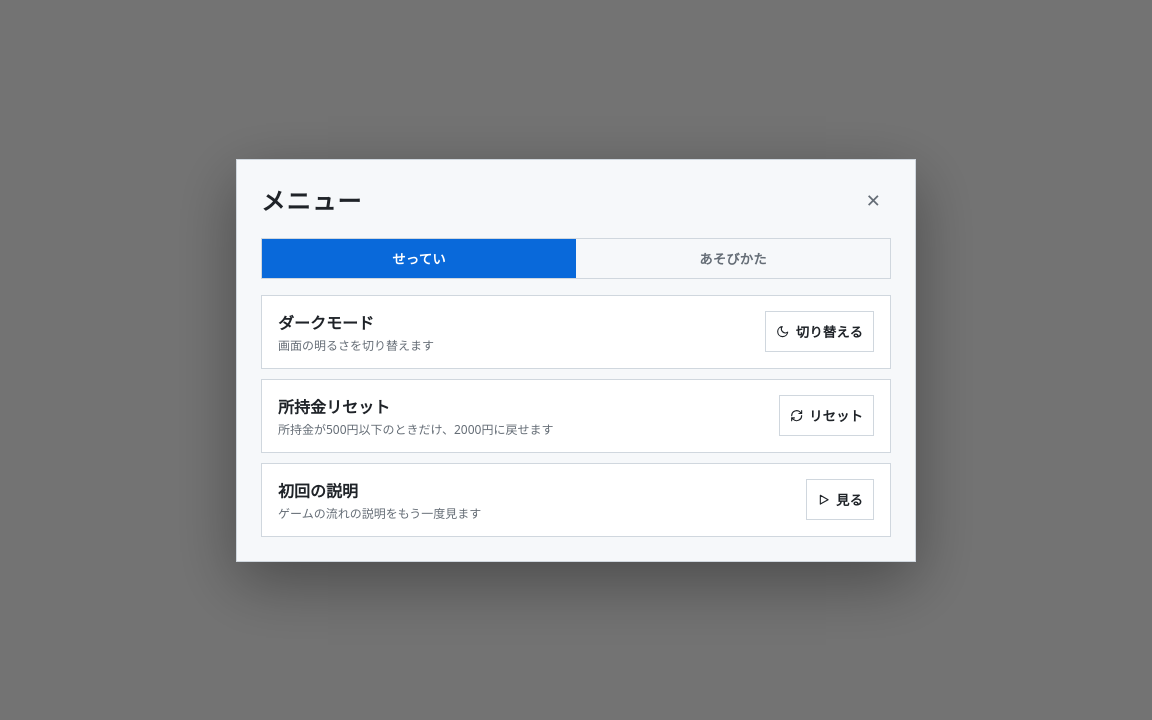
Test: MenuModal › 「あそびかた」には券種の説明が載っている
Click the tab "あそびかた" at (733, 258), box [576,238,890,278]
(page scrolled)
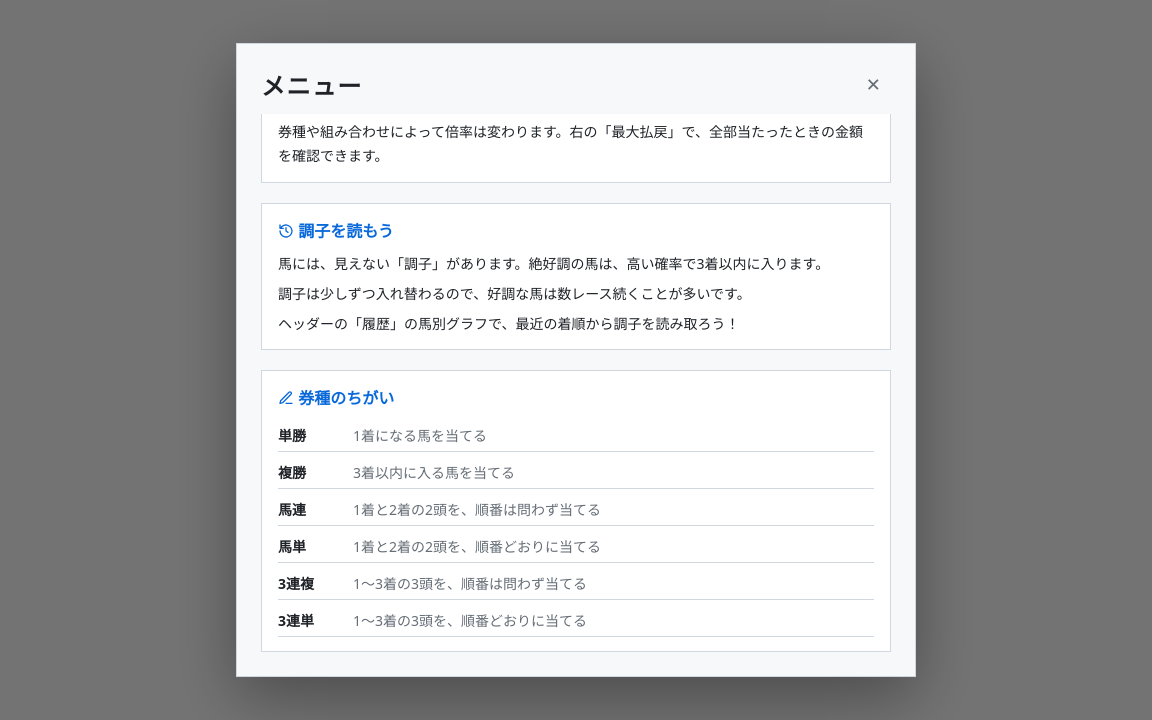
Expected: the heading "券種のちがい" is shown, [278,387,394,409]
Expected: the text "3連単" is shown, [278,611,314,630]
